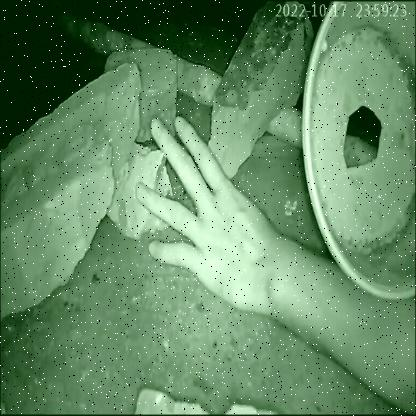hand: (123, 103, 371, 359)
